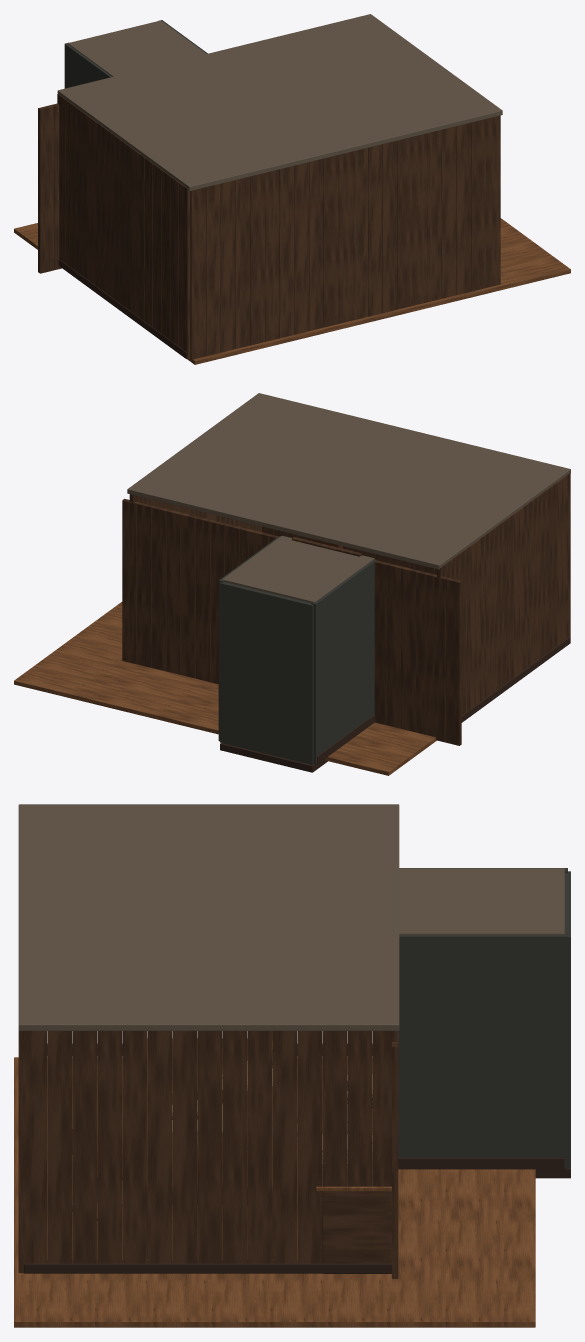
The model's file is office.glb.
3 renders of one model, top to bottom at view 1: azimuth 30°, elevation 25°; view 2: azimuth 150°, elevation 25°; view 3: azimuth 270°, elevation 25°, orthographic. The views are drawn at different scales.
Visible parts, largest first — view 1: OfficeIntroSet, Walnut paneling and door casing; view 2: OfficeIntroSet, Walnut paneling and door casing; view 3: OfficeIntroSet, Walnut paneling and door casing, Desk and credenza.
Part boxes in pixels (box(x1,y1,x2,y2)): OfficeIntroSet: box(57, 14, 502, 359); Walnut paneling and door casing: box(14, 103, 570, 364); OfficeIntroSet: box(127, 393, 570, 772); Walnut paneling and door casing: box(14, 498, 461, 775); OfficeIntroSet: box(18, 804, 570, 1273); Walnut paneling and door casing: box(14, 1031, 535, 1327); Desk and credenza: box(147, 1038, 391, 1273).
Size of the model in its own units: 6.38 by 2.76 by 5.34.
53 materials, 22 textured.
